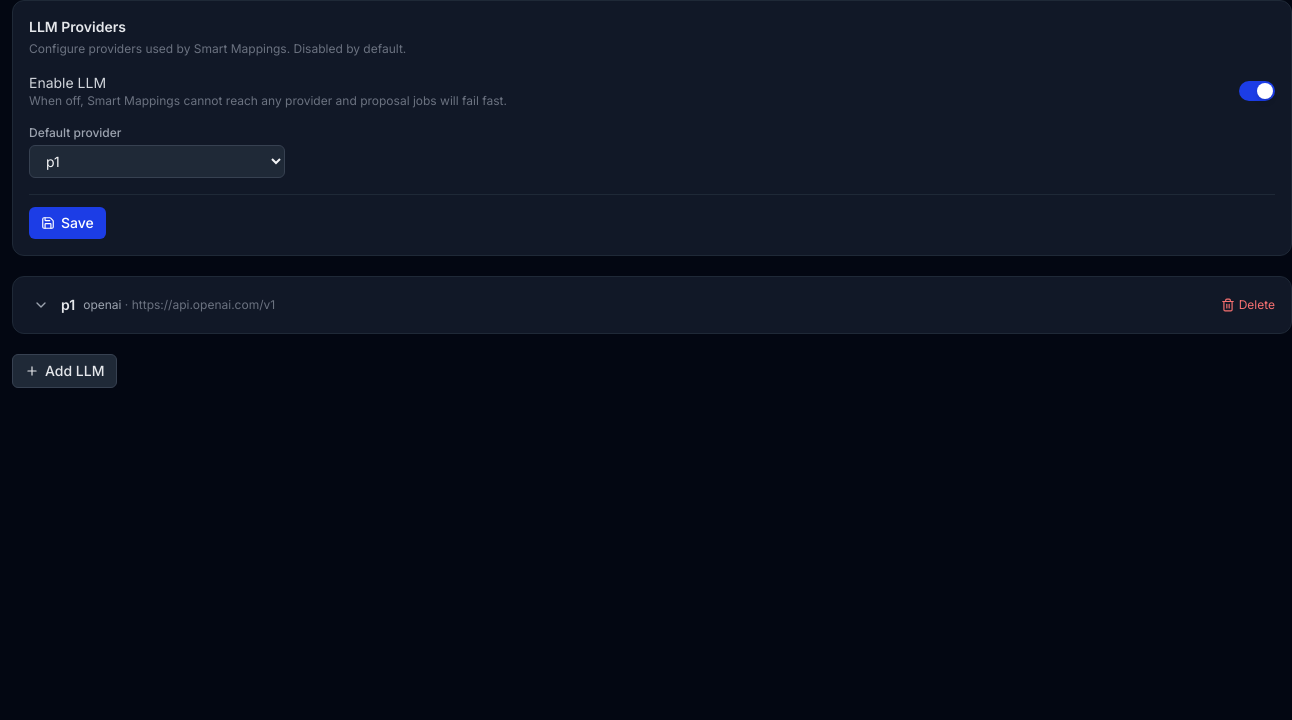
Scenario: LLMProvidersTab › Test connection renders the inline error detail on failure
Click the button named "Expand p1" at (41, 305), box [29,293,53,317]
(page scrolled)
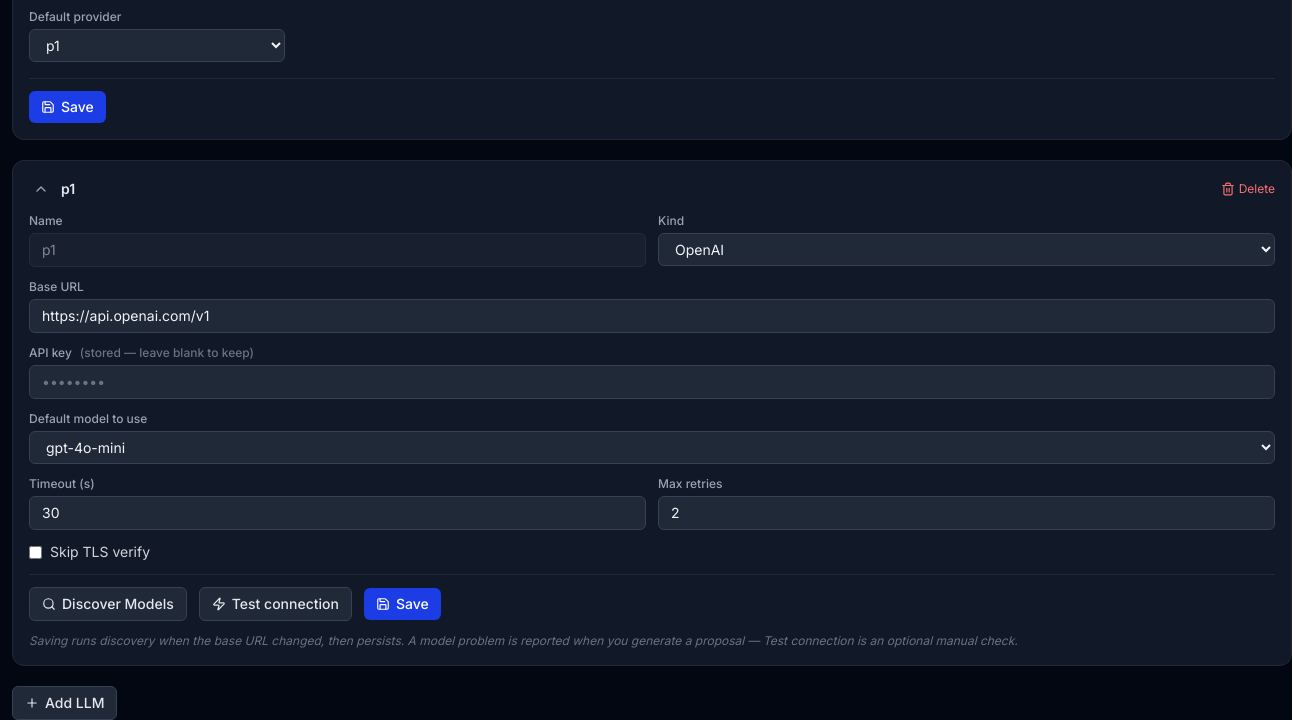
Click the button "Test connection" at (275, 604), box [199,587,352,621]
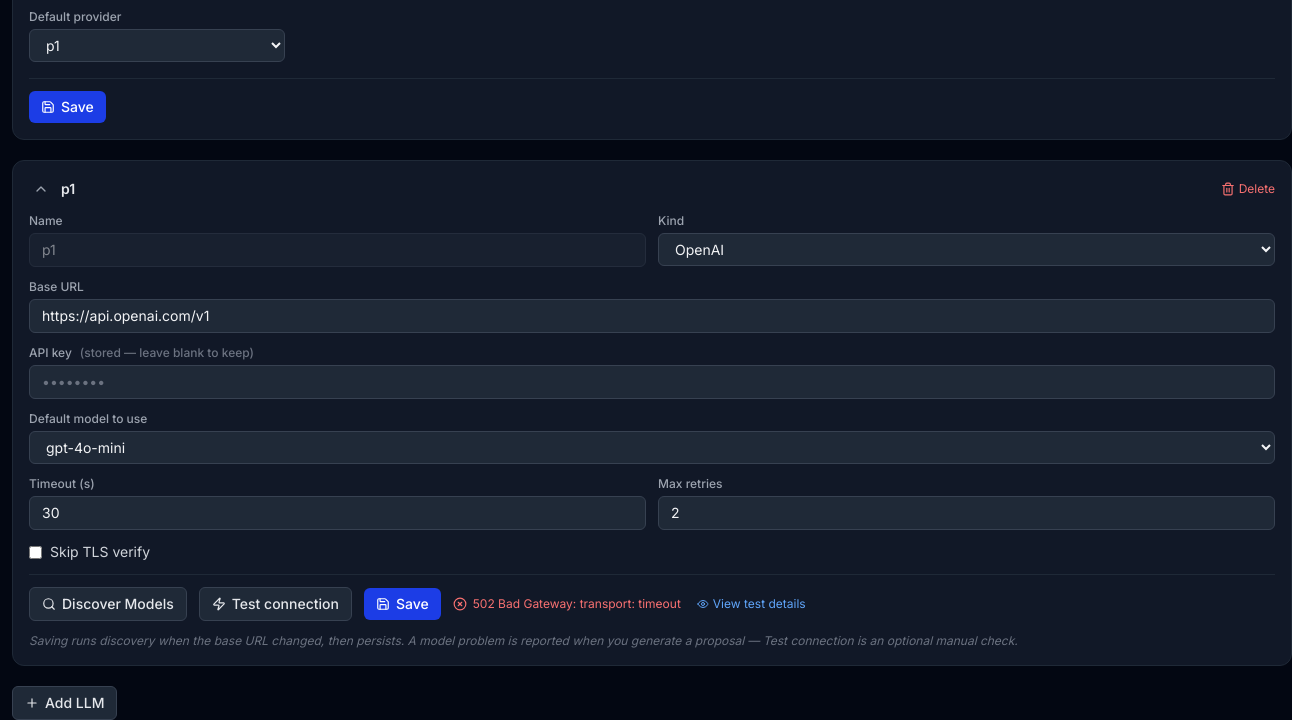
Expected: the element with test id "card-probe-error" shows "transport: timeout", [473,596,681,611]
